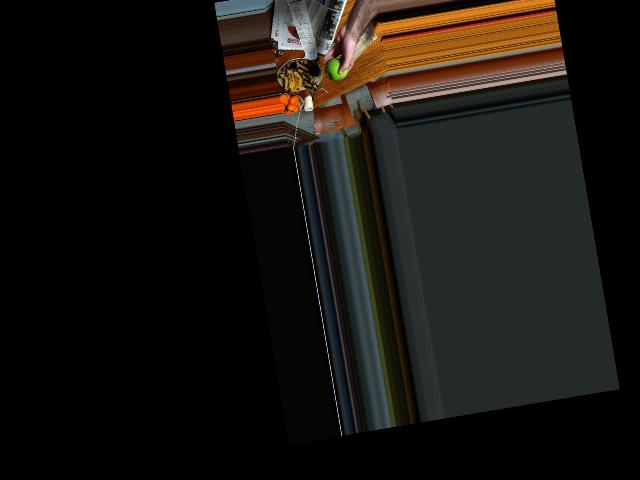apple: (322, 51, 351, 83)
